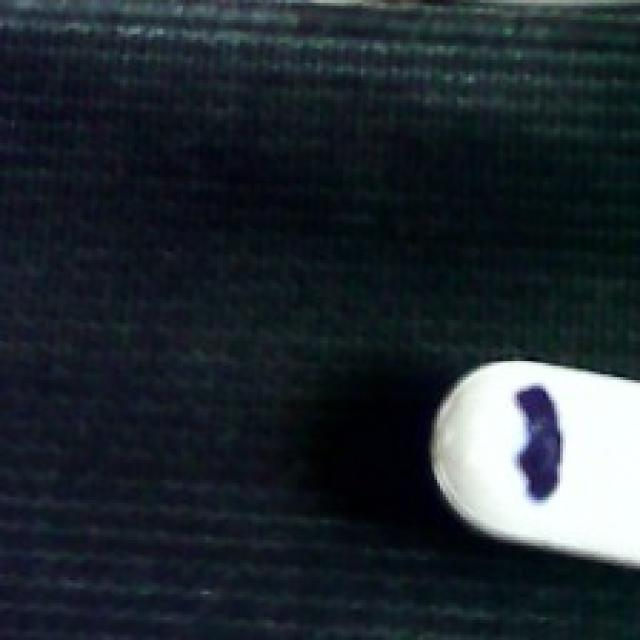defected: (417, 354, 637, 574)
